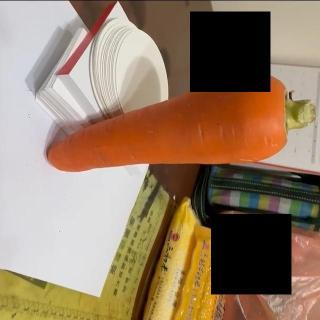carrot: (46, 70, 316, 172)
